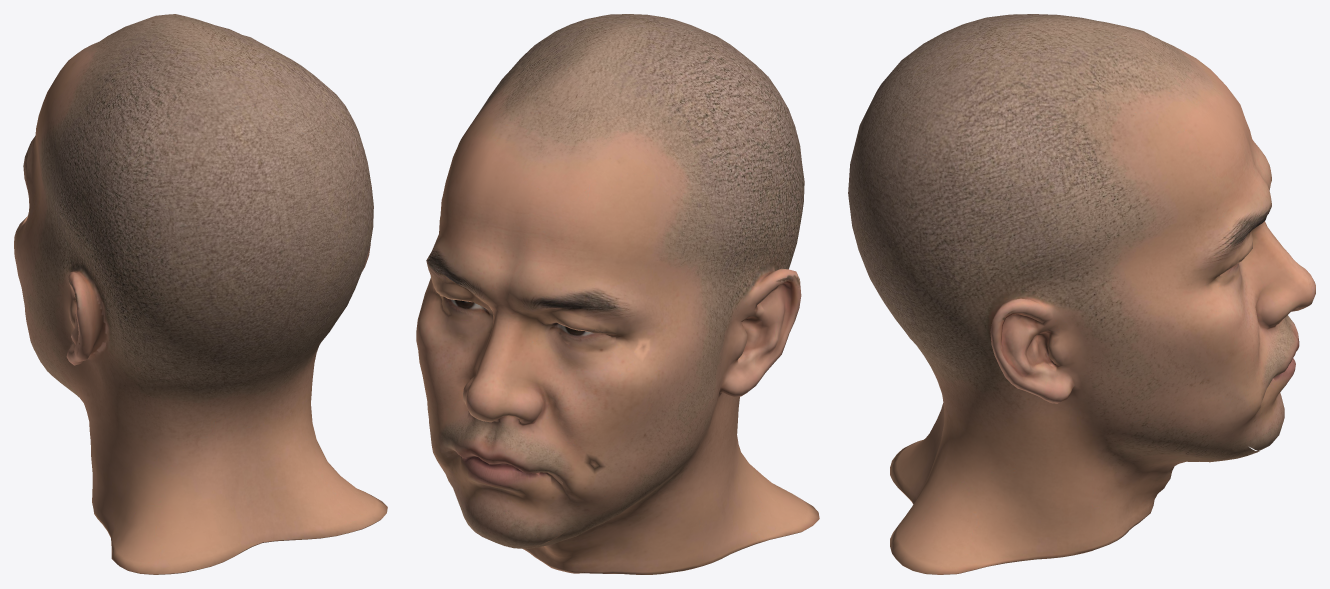
The model's file is Model_HairHead_Jia.glb.
3 renders of one model, left to right at view 1: azimuth 30°, elevation 25°; view 2: azimuth 150°, elevation 25°; view 3: azimuth 270°, elevation 25°, orthographic. The views are drawn at different scales.
Visible parts, largest first — view 1: HairHead_Jia; view 2: HairHead_Jia; view 3: HairHead_Jia.
Boxes of the visible parts, box(x1,y1,x2,y2) form: HairHead_Jia: box(14, 14, 387, 574); HairHead_Jia: box(416, 14, 819, 574); HairHead_Jia: box(848, 14, 1315, 574).
Bounding box in the file's own units: 0.1769 × 0.2667 × 0.2333.
Materials: 1 (1 with a texture image).
